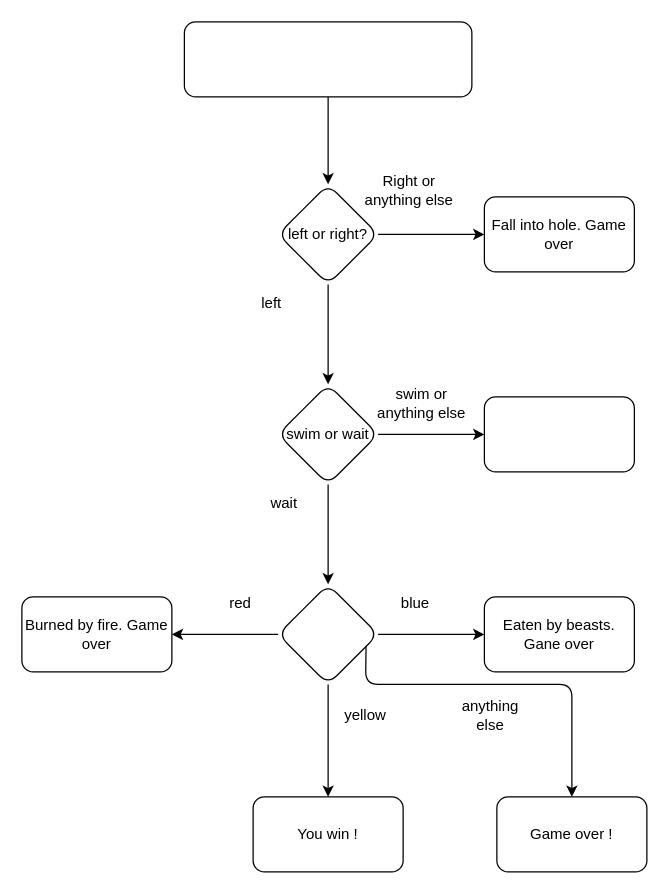
The diagram is 669 pixels wide and 894 high, and some of its shapes have lost their labels. The shapes that lost their labels are listed below. From the top down, each one's box as (x1, y1, x2, y2) in pixels, then its label:
(183, 21, 472, 97): Welcome to Treasure Island. Your mission is to find the treasure
(483, 396, 634, 472): Attacked by trout. Game over
(277, 583, 378, 684): which door?
